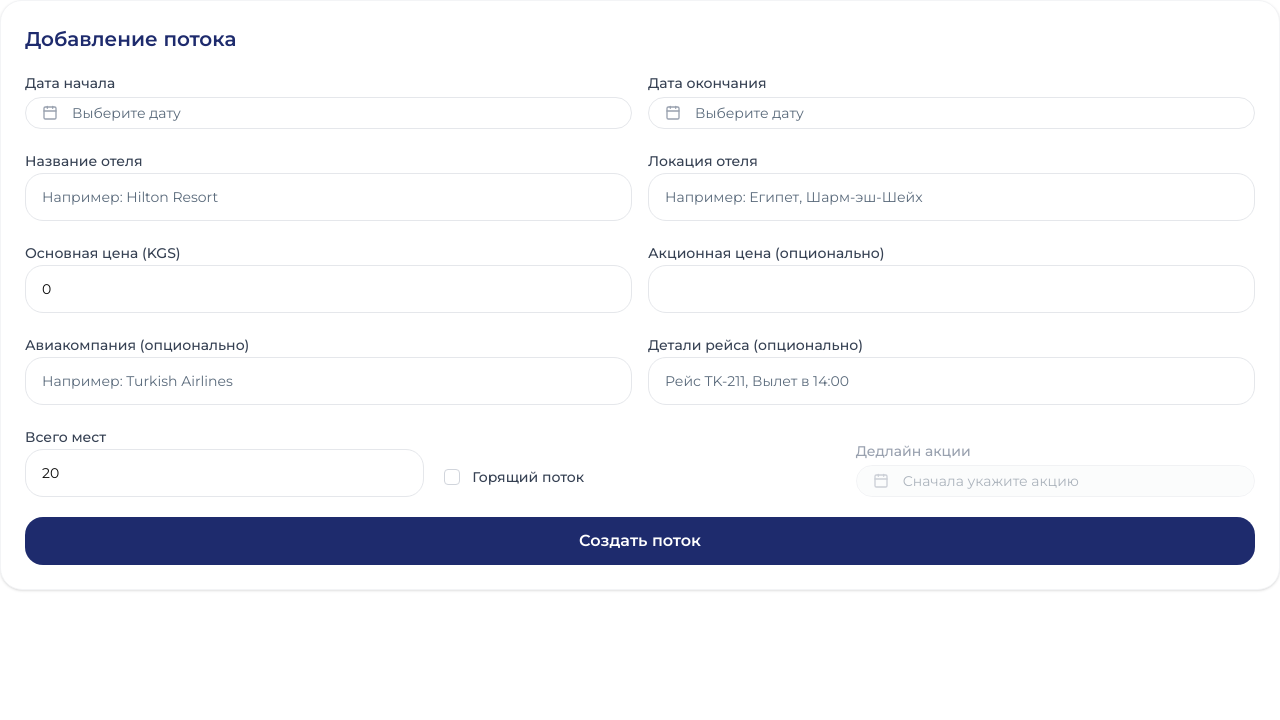
Test case: TourSetForm › требует даты, отель и локацию
Click the button "Создать поток" at (640, 541), box [25, 517, 1255, 565]
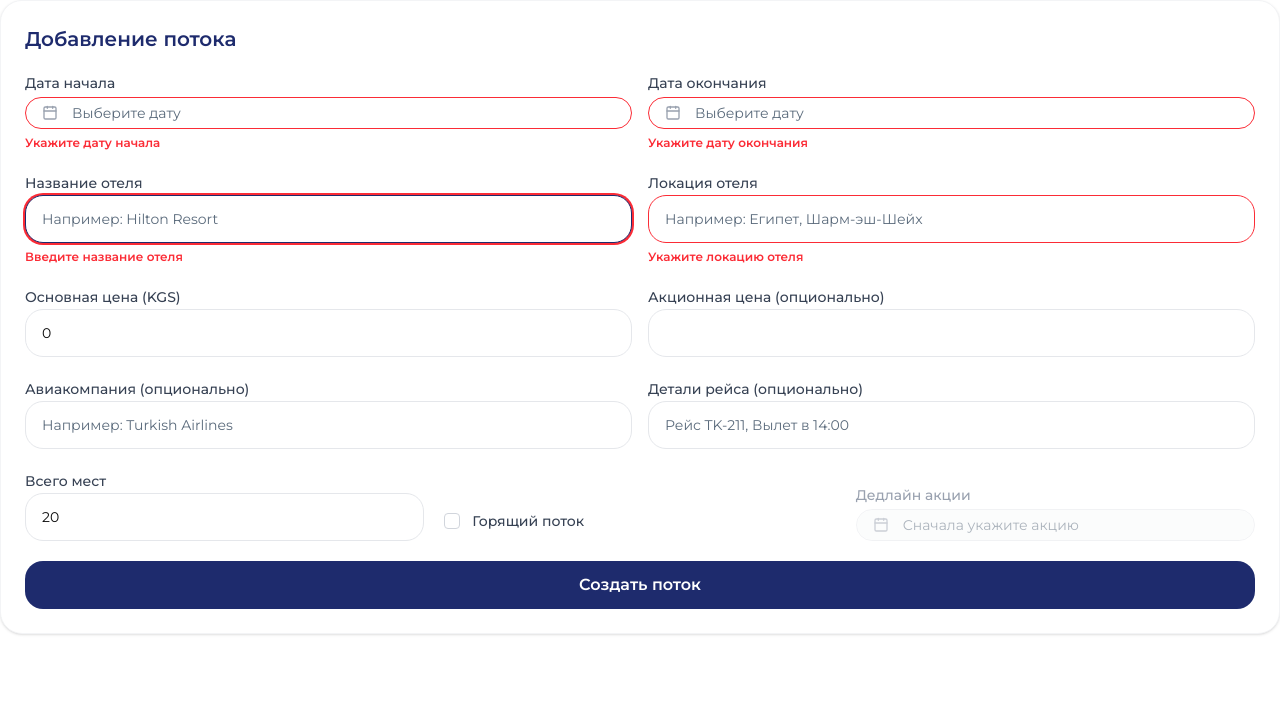
Expected: the text "Укажите дату начала" is shown, [25, 135, 160, 150]
Expected: the text "Укажите дату окончания" is shown, [648, 135, 808, 150]
Expected: the text "Введите название отеля" is shown, [25, 249, 183, 264]
